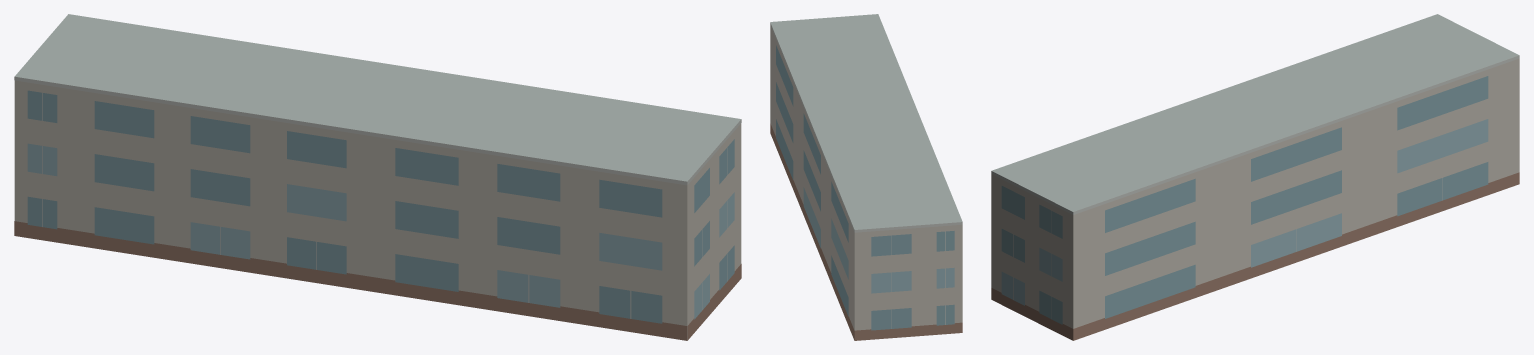
The model's file is survey-upis-32642147.glb.
3 renders of one model, left to right at view 1: azimuth 30°, elevation 25°; view 2: azimuth 150°, elevation 25°; view 3: azimuth 270°, elevation 25°, orthographic. The views are drawn at different scales.
Visible parts, largest first — view 1: survey-upis-32642147.tmp; view 2: survey-upis-32642147.tmp; view 3: survey-upis-32642147.tmp.
Boxes of the visible parts, bbox=[...] form: survey-upis-32642147.tmp: bbox=[14, 14, 741, 340]; survey-upis-32642147.tmp: bbox=[770, 14, 962, 340]; survey-upis-32642147.tmp: bbox=[991, 14, 1519, 340].
Bounding box in the file's own units: 33.64 × 10.2 × 37.91.
